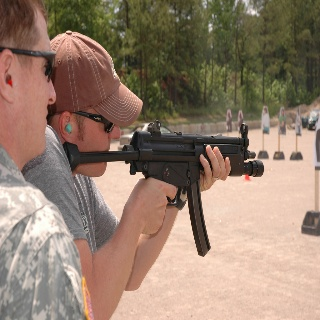rifle: (62, 119, 264, 256)
